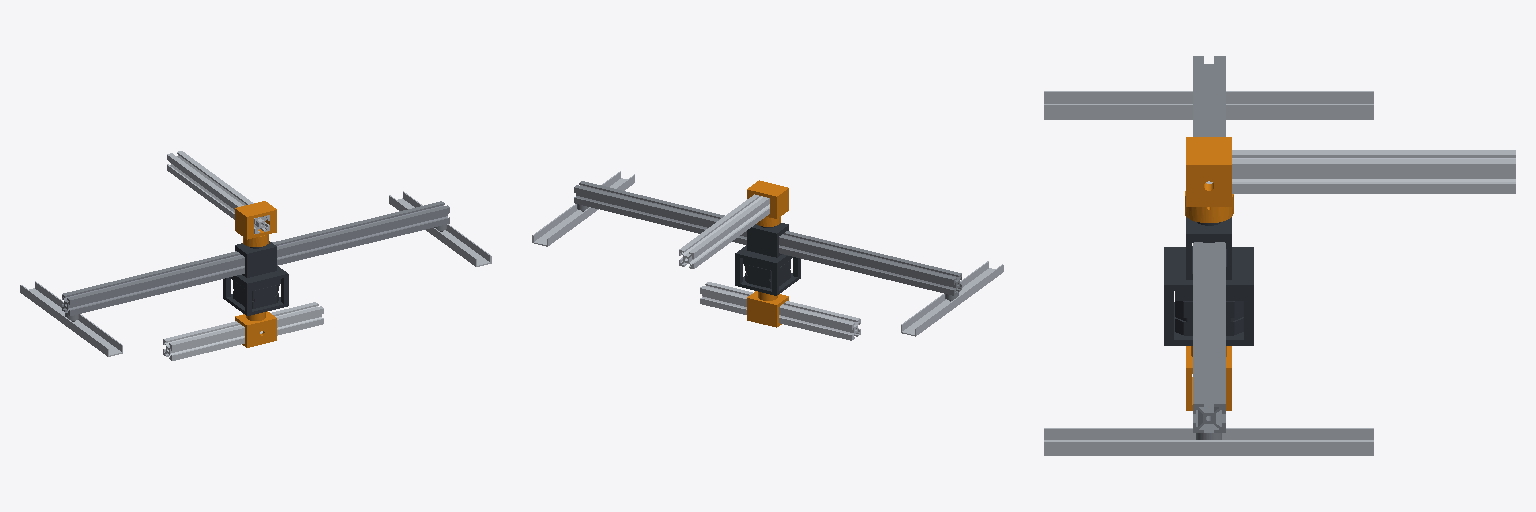
robot.urdf — robot_art_single_layer:
<?xml version="1.0" ?>
<!-- =================================================================================== -->
<!-- |    This document was autogenerated by xacro from single_layer.urdf.xacro        | -->
<!-- |    EDITING THIS FILE BY HAND IS NOT RECOMMENDED                                 | -->
<!-- =================================================================================== -->
<!--
  ELE408 Robot Art - ONE LAYER, matching RobotArtLayer_assembly.step part for part (v3).
  Links (STEP component in brackets):
    bar_above    [Bar200_above]      fixed to the world, where the STEP file has it
    clampA       [ClampA_link]       clamp A + 608 bearing                      joint clampA  : fixed
    motor        [Motor_link]        carriage + cage + pin + encoder + NEMA 17  joint pivot   : continuous, TOP PIVOT (passive bearing)
    support_bar  [Support500_link]   500 mm bar + ball units                    joint support : prismatic along X (passive slide)
    hub          [Hub_link]          flange coupler + clamp B / drive hub       joint joint   : continuous, BOTTOM PIVOT, driven
    next_bar     [NextBar200_reference]                                         joint clampB  : prismatic, radius 0.03-0.17 m
    track_L / track_R [Tracks_frame_reference]   U-channel tracks fixed to the world
  With the bar above fixed, pivot and support both stay at 0 (the motor doesn't move).
  Units m, kg, rad. Meshes are in mm and scaled by 0.001.
  Radius = rest_radius + clampB value (rest_radius is 0 for ROS, 0.07 for the Godot files).
  Build:  xacro single_layer.urdf.xacro > single_layer.urdf
-->
<robot name="robot_art_single_layer">
  <!-- carriage (40 mm) can run until it meets a ball unit -->
  <material name="orange">
    <color rgba="0.88 0.54 0.12 1"/>
  </material>
  <material name="alu">
    <color rgba="0.75 0.77 0.80 1"/>
  </material>
  <material name="dark">
    <color rgba="0.25 0.27 0.30 1"/>
  </material>
  <material name="red">
    <color rgba="0.8 0.1 0.1 1"/>
  </material>
  <material name="steel">
    <color rgba="0.55 0.57 0.60 1"/>
  </material>
  <link name="world"/>
  <joint name="bar_above_fixed" type="fixed">
    <parent link="world"/>
    <child link="bar_above"/>
    <origin xyz="0.49935 0.02633 0.08136"/>
  </joint>
  <link name="bar_above">
    <visual>
      <geometry>
        <mesh filename="package://robot_art_layer/meshes/bar.stl" scale="0.001 0.001 0.001"/>
      </geometry>
      <material name="alu"/>
    </visual>
    <collision>
      <origin xyz="0 0.086 0"/>
      <geometry>
        <box size="0.02 0.2 0.02"/>
      </geometry>
    </collision>
    <inertial>
      <origin xyz="-0.00000 0.08600 0.00000"/>
      <mass value="0.1000"/>
      <inertia ixx="3.3741e-04" ixy="-8.6845e-21" ixz="-3.3719e-10" iyy="8.1483e-06" iyz="-3.5730e-21" izz="3.3741e-04"/>
    </inertial>
  </link>
  <joint name="clampA" type="fixed">
    <parent link="bar_above"/>
    <child link="clampA"/>
    <origin xyz="0 0 0"/>
  </joint>
  <link name="clampA">
    <visual>
      <geometry>
        <mesh filename="package://robot_art_layer/meshes/clampA.stl" scale="0.001 0.001 0.001"/>
      </geometry>
      <material name="orange"/>
    </visual>
    <collision>
      <geometry>
        <box size="0.040 0.028 0.0284"/>
      </geometry>
    </collision>
    <collision>
      <origin xyz="0 0 -0.0207"/>
      <geometry>
        <cylinder length="0.013" radius="0.015"/>
      </geometry>
    </collision>
    <inertial>
      <origin xyz="-0.00011 0.00000 -0.01275"/>
      <mass value="0.0280"/>
      <inertia ixx="6.2275e-06" ixy="-7.0054e-12" ixz="3.6730e-08" iyy="7.7408e-06" iyz="6.4456e-10" izz="4.3962e-06"/>
    </inertial>
  </link>
  <!-- TOP PIVOT: 608 bearing, 23.7 mm below the bar centre line (passive) -->
  <joint name="pivot" type="continuous">
    <parent link="clampA"/>
    <child link="motor"/>
    <origin xyz="0 0 -0.0237"/>
    <axis xyz="0 0 1"/>
    <limit effort="0" velocity="10"/>
    <dynamics damping="0.0" friction="0.002"/>
  </joint>
  <link name="motor">
    <visual>
      <geometry>
        <mesh filename="package://robot_art_layer/meshes/motor.stl" scale="0.001 0.001 0.001"/>
      </geometry>
      <material name="dark"/>
    </visual>
    <collision>
      <origin xyz="0 0 -0.0237"/>
      <geometry>
        <box size="0.040 0.028 0.0304"/>
      </geometry>
    </collision>
    <collision>
      <origin xyz="0 0 -0.0594"/>
      <geometry>
        <box size="0.0543 0.0543 0.041"/>
      </geometry>
    </collision>
    <inertial>
      <origin xyz="0.00009 -0.00000 -0.05783"/>
      <mass value="0.2011"/>
      <inertia ixx="9.6019e-05" ixy="-3.2819e-11" ixz="5.4181e-09" iyy="9.6824e-05" iyz="-4.1809e-09" izz="5.7848e-05"/>
    </inertial>
  </link>
  <joint name="support" type="prismatic">
    <parent link="motor"/>
    <child link="support_bar"/>
    <origin xyz="0 0 0"/>
    <axis xyz="1 0 0"/>
    <!-- value = support bar centre minus carriage centre, along the bar. Passive (effort 0). -->
    <limit effort="0" lower="-0.214" upper="0.214" velocity="1.0"/>
    <dynamics damping="0.0" friction="0.5"/>
  </joint>
  <link name="support_bar">
    <visual>
      <geometry>
        <mesh filename="package://robot_art_layer/meshes/support.stl" scale="0.001 0.001 0.001"/>
      </geometry>
      <material name="steel"/>
    </visual>
    <collision>
      <origin xyz="0 0 -0.0247"/>
      <geometry>
        <box size="0.50 0.02 0.02"/>
      </geometry>
    </collision>
    <collision>
      <origin xyz="-0.242 0 -0.0387"/>
      <geometry>
        <cylinder length="0.008" radius="0.008"/>
      </geometry>
    </collision>
    <collision>
      <origin xyz="0.242 0 -0.0387"/>
      <geometry>
        <cylinder length="0.008" radius="0.008"/>
      </geometry>
    </collision>
    <inertial>
      <origin xyz="0 0 -0.02559"/>
      <mass value="0.2660"/>
      <inertia ixx="2.4046e-05" ixy="0" ixz="0" iyy="6.1592e-03" iyz="0" izz="6.1560e-03"/>
    </inertial>
  </link>
  <joint name="encoder_mount" type="fixed">
    <parent link="motor"/>
    <child link="encoder"/>
    <origin xyz="0 0 -0.0479"/>
  </joint>
  <link name="encoder">
    <inertial>
      <mass value="0.001"/>
      <inertia ixx="1e-9" ixy="0" ixz="0" iyy="1e-9" iyz="0" izz="1e-9"/>
    </inertial>
  </link>
  <!-- BOTTOM PIVOT: motor front face, 75.9 mm below the top pivot, driven by the NEMA 17 -->
  <joint name="joint" type="continuous">
    <parent link="motor"/>
    <child link="hub"/>
    <origin xyz="0 0 -0.0759"/>
    <axis xyz="0 0 1"/>
    <limit effort="0.13" velocity="1.0"/>
    <dynamics damping="0.0"/>
  </joint>
  <link name="hub">
    <visual>
      <geometry>
        <mesh filename="package://robot_art_layer/meshes/hub.stl" scale="0.001 0.001 0.001"/>
      </geometry>
      <material name="orange"/>
    </visual>
    <collision>
      <origin xyz="0 0 -0.0135"/>
      <geometry>
        <cylinder length="0.018" radius="0.011"/>
      </geometry>
    </collision>
    <collision>
      <origin xyz="0 0 -0.0367"/>
      <geometry>
        <box size="0.040 0.028 0.0284"/>
      </geometry>
    </collision>
    <inertial>
      <origin xyz="-0.00000 0.00004 -0.02232"/>
      <mass value="0.0208"/>
      <inertia ixx="5.9366e-06" ixy="3.9488e-16" ixz="-1.5550e-12" iyy="6.2704e-06" iyz="1.3147e-08" izz="2.9028e-06"/>
    </inertial>
  </link>
  <!-- CLAMP B: the next 200 mm bar slides through it along X; value = radius (STEP file shows 0.07) -->
  <joint name="clampB" type="prismatic">
    <parent link="hub"/>
    <child link="next_bar"/>
    <origin rpy="0 0 1.5707963267948966" xyz="0.07 0 -0.0367"/>
    <axis xyz="0 -1 0"/>
    <limit effort="20" lower="-0.04000000000000001" upper="0.1" velocity="0.05"/>
    <dynamics damping="0.5"/>
  </joint>
  <link name="next_bar">
    <visual>
      <geometry>
        <mesh filename="package://robot_art_layer/meshes/bar.stl" scale="0.001 0.001 0.001"/>
      </geometry>
      <material name="alu"/>
    </visual>
    <collision>
      <origin xyz="0 0.086 0"/>
      <geometry>
        <box size="0.02 0.2 0.02"/>
      </geometry>
    </collision>
    <inertial>
      <origin xyz="-0.00000 0.08600 0.00000"/>
      <mass value="0.1000"/>
      <inertia ixx="3.3741e-04" ixy="-8.6845e-21" ixz="-3.3719e-10" iyy="8.1483e-06" iyz="-3.5730e-21" izz="3.3741e-04"/>
    </inertial>
  </link>
  <joint name="track_L_fixed" type="fixed">
    <parent link="world"/>
    <child link="track_L"/>
    <origin xyz="0.25735 0.02633 0.009960000000000004"/>
  </joint>
  <link name="track_L">
    <visual>
      <origin xyz="0 0 -0.00075"/>
      <geometry>
        <box size="0.020 0.2 0.0015"/>
      </geometry>
      <material name="alu"/>
    </visual>
    <visual>
      <origin xyz="-0.00925 0 0.0035"/>
      <geometry>
        <box size="0.0015 0.2 0.010"/>
      </geometry>
      <material name="alu"/>
    </visual>
    <visual>
      <origin xyz="0.00925 0 0.0035"/>
      <geometry>
        <box size="0.0015 0.2 0.010"/>
      </geometry>
      <material name="alu"/>
    </visual>
  </link>
  <joint name="track_R_fixed" type="fixed">
    <parent link="world"/>
    <child link="track_R"/>
    <origin xyz="0.74135 0.02633 0.009960000000000004"/>
  </joint>
  <link name="track_R">
    <visual>
      <origin xyz="0 0 -0.00075"/>
      <geometry>
        <box size="0.020 0.2 0.0015"/>
      </geometry>
      <material name="alu"/>
    </visual>
    <visual>
      <origin xyz="-0.00925 0 0.0035"/>
      <geometry>
        <box size="0.0015 0.2 0.010"/>
      </geometry>
      <material name="alu"/>
    </visual>
    <visual>
      <origin xyz="0.00925 0 0.0035"/>
      <geometry>
        <box size="0.0015 0.2 0.010"/>
      </geometry>
      <material name="alu"/>
    </visual>
  </link>
</robot>

--- What the picture shows (computed from the rendered views, not written in the file) ---
The picture shows the robot from 3 angles, left to right: view 1: azimuth 30°, elevation 25°; view 2: azimuth 150°, elevation 25°; view 3: azimuth 270°, elevation 25°; orthographic projection.
Model robot_art_single_layer with 10 links and 9 joints (2 continuous, 2 prismatic, 5 fixed), rooted at world, posed every joint at zero.
Links seen in each view (by area): view 1: support_bar, motor, next_bar, bar_above, track_L, track_R, clampA, hub; view 2: support_bar, motor, next_bar, bar_above, track_L, track_R, clampA, hub; view 3: bar_above, support_bar, track_R, track_L, motor, clampA, hub.
Boxes of the visible links, x1=… form: support_bar: x1=62, y1=201, x2=449, y2=321; motor: x1=223, y1=241, x2=288, y2=315; next_bar: x1=163, y1=302, x2=323, y2=360; bar_above: x1=167, y1=151, x2=269, y2=233; track_L: x1=20, y1=281, x2=122, y2=356; track_R: x1=389, y1=191, x2=491, y2=266; clampA: x1=235, y1=201, x2=276, y2=246; hub: x1=235, y1=311, x2=276, y2=347; support_bar: x1=574, y1=181, x2=961, y2=301; motor: x1=735, y1=223, x2=800, y2=295; next_bar: x1=700, y1=282, x2=860, y2=340; bar_above: x1=679, y1=194, x2=769, y2=268; track_L: x1=901, y1=261, x2=1003, y2=336; track_R: x1=532, y1=171, x2=634, y2=246; clampA: x1=747, y1=180, x2=788, y2=226; hub: x1=747, y1=291, x2=788, y2=327; bar_above: x1=1206, y1=150, x2=1515, y2=193; support_bar: x1=1193, y1=56, x2=1225, y2=439; track_R: x1=1044, y1=428, x2=1373, y2=455; track_L: x1=1044, y1=91, x2=1373, y2=119; motor: x1=1164, y1=217, x2=1253, y2=345; clampA: x1=1185, y1=137, x2=1233, y2=222; hub: x1=1186, y1=346, x2=1231, y2=410.
Size in the robot's own frame: 0.504 by 0.286 by 0.1647 metres.
6 mesh visuals loaded from 5 distinct referenced files (5 binary STL).
